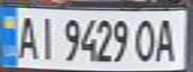2: (93, 16, 115, 64)
4: (78, 16, 100, 63)
9: (57, 14, 81, 62), (109, 16, 133, 63)
A: (151, 15, 181, 64), (12, 11, 39, 61)
I: (33, 12, 57, 61)
O: (133, 15, 160, 63)
